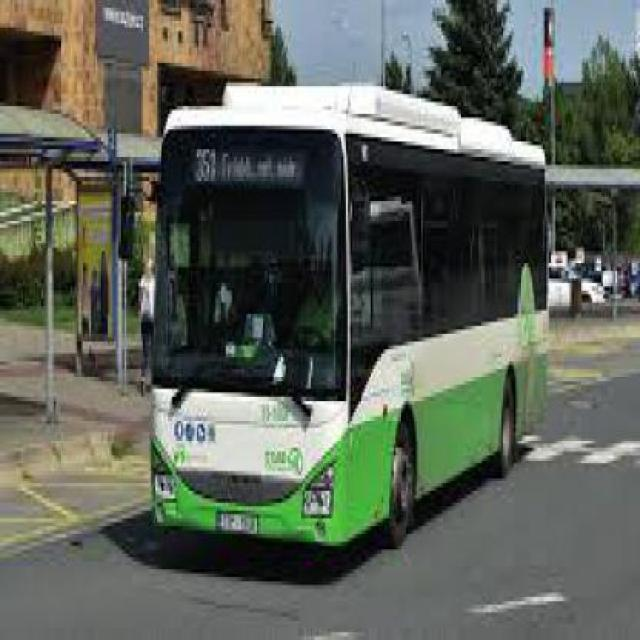bus: (162, 85, 547, 552)
